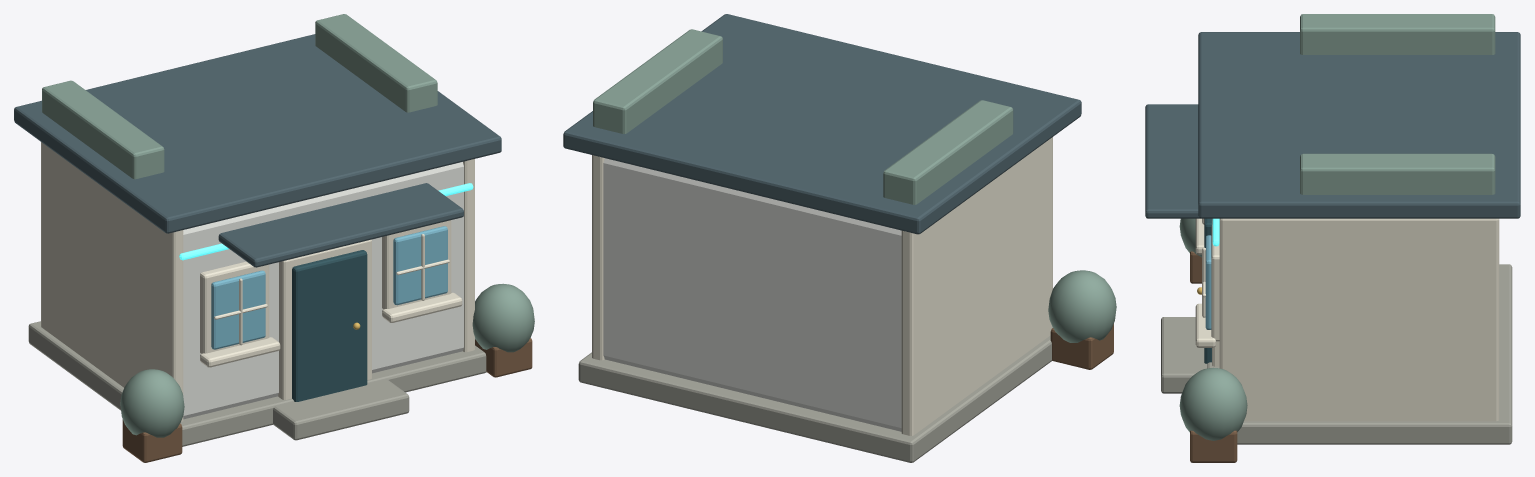
The model's file is house-aether.glb.
3 views of the same model, side by side, from view 1: azimuth 30°, elevation 25°; view 2: azimuth 150°, elevation 25°; view 3: azimuth 270°, elevation 25° (orthographic). The views are drawn at different scales.
Parts seen in each view (by area): view 1: Geometry_Roof, Geometry_Trim, Geometry_Plant, Geometry_Wall, Geometry_Foundation, Geometry_Door, Geometry_Glass, Geometry_Wood, Geometry_Light; view 2: Geometry_Wall, Geometry_Roof, Geometry_Trim, Geometry_Plant, Geometry_Foundation, Geometry_Wood; view 3: Geometry_Trim, Geometry_Roof, Geometry_Plant, Geometry_Foundation, Geometry_Wood, Geometry_Glass.
Part boxes in pixels (x1,y1,x2,y2): Geometry_Roof: (14,34,501,267); Geometry_Trim: (41,142,474,421); Geometry_Plant: (42,14,534,437); Geometry_Wall: (183,162,463,419); Geometry_Foundation: (28,321,486,446); Geometry_Door: (292,250,367,401); Geometry_Glass: (211,226,447,349); Geometry_Wood: (122,338,532,462); Geometry_Light: (179,183,473,260); Geometry_Wall: (603,158,901,431); Geometry_Roof: (563,14,1081,234); Geometry_Trim: (592,137,1052,435); Geometry_Plant: (593,29,1116,342); Geometry_Foundation: (578,335,1051,462); Geometry_Wood: (1050,324,1113,369); Geometry_Trim: (1195,218,1499,421); Geometry_Roof: (1145,32,1520,218); Geometry_Plant: (1179,14,1495,440); Geometry_Foundation: (1161,264,1512,444); Geometry_Wood: (1190,251,1237,462); Geometry_Glass: (1205,235,1211,329).
Size of the model in its own units: 5.8 by 3.57 by 4.42.
